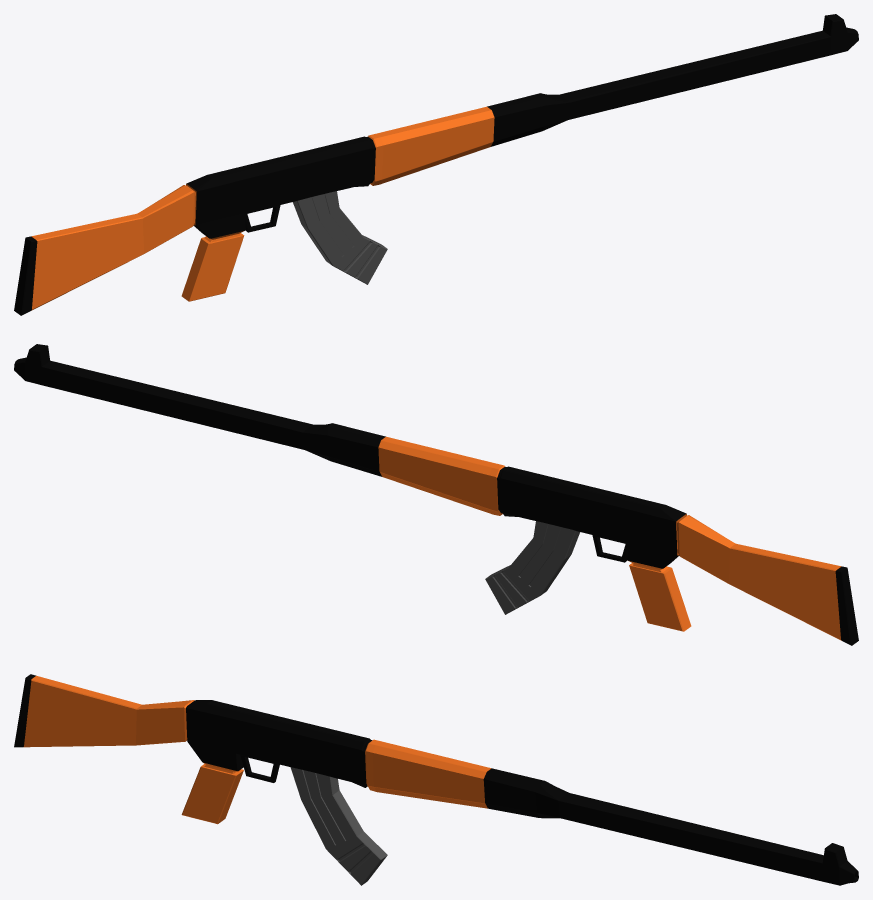
File: ak_gun.fbx
3 renders of one model, top to bottom at view 1: azimuth 30°, elevation 25°; view 2: azimuth 150°, elevation 25°; view 3: azimuth 330°, elevation 25°, orthographic.
Parts seen in each view (by area): view 1: Plane, Plane.003; view 2: Plane, Plane.003; view 3: Plane, Plane.003.
Part boxes in pixels (<box>): Plane: <box>14,14,858,315</box>; Plane.003: <box>293,191,387,284</box>; Plane: <box>14,344,858,645</box>; Plane.003: <box>485,521,579,614</box>; Plane: <box>14,674,858,885</box>; Plane.003: <box>290,767,387,885</box>.
Bounding box in the file's own units: 203 × 35.01 × 4.56.
